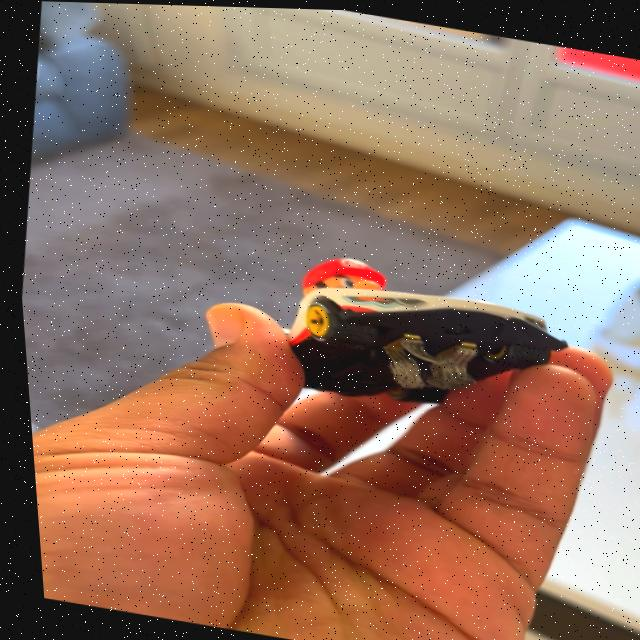mario: (252, 235, 590, 453)
